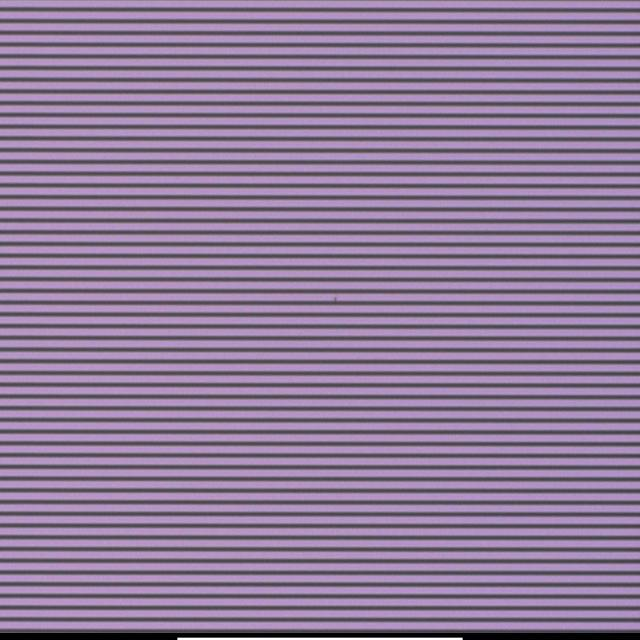nonvisual: (331, 294, 339, 304)
